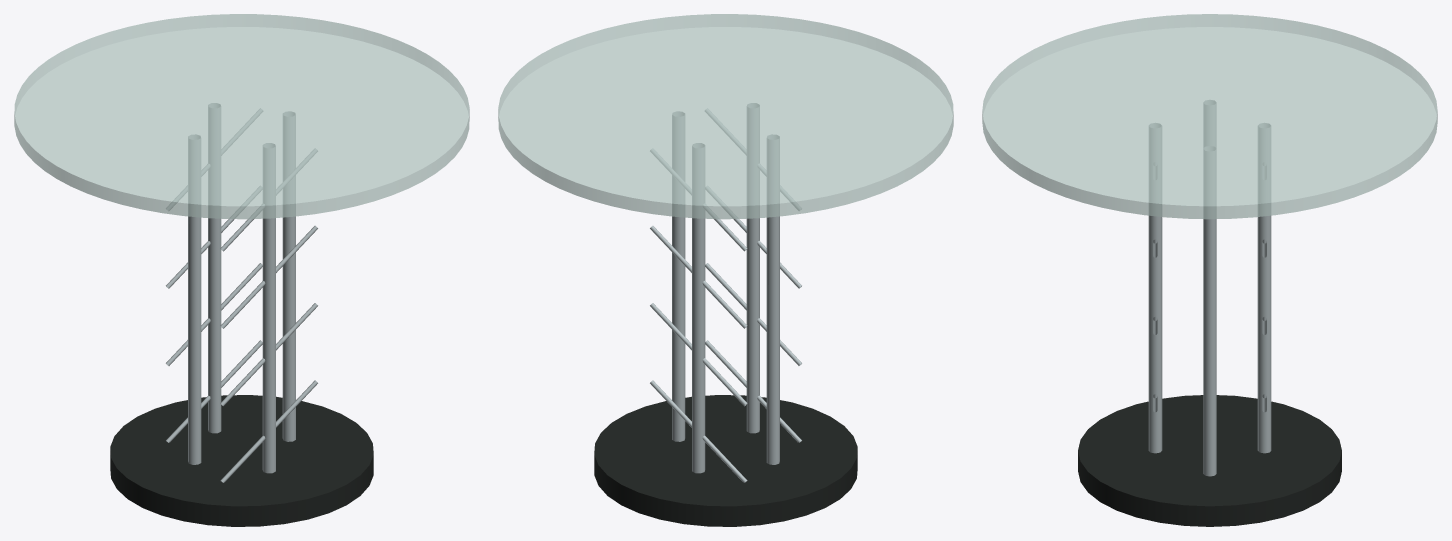
File: prod-1773061941304-bvjtw.glb
3 views of the same model, side by side, from view 1: azimuth 30°, elevation 25°; view 2: azimuth 150°, elevation 25°; view 3: azimuth 270°, elevation 25° (orthographic).
Visible parts, largest first — view 1: Round or oval tabletop.003, Black circular base.001, Truss upright.004; view 2: Round or oval tabletop.003, Black circular base.001, Truss upright.004; view 3: Round or oval tabletop.003, Black circular base.001, Truss upright.004.
Boxes of the visible parts, left/top/right/bottom form: Round or oval tabletop.003: left=14, top=14, right=469, bottom=219; Black circular base.001: left=110, top=395, right=373, bottom=526; Truss upright.004: left=166, top=103, right=317, bottom=482; Round or oval tabletop.003: left=498, top=14, right=953, bottom=219; Black circular base.001: left=594, top=395, right=857, bottom=526; Truss upright.004: left=650, top=103, right=801, bottom=482; Round or oval tabletop.003: left=982, top=14, right=1437, bottom=219; Black circular base.001: left=1078, top=395, right=1341, bottom=526; Truss upright.004: left=1148, top=100, right=1271, bottom=476.
Size of the model in its own units: 0.8 by 0.7 by 0.8.
